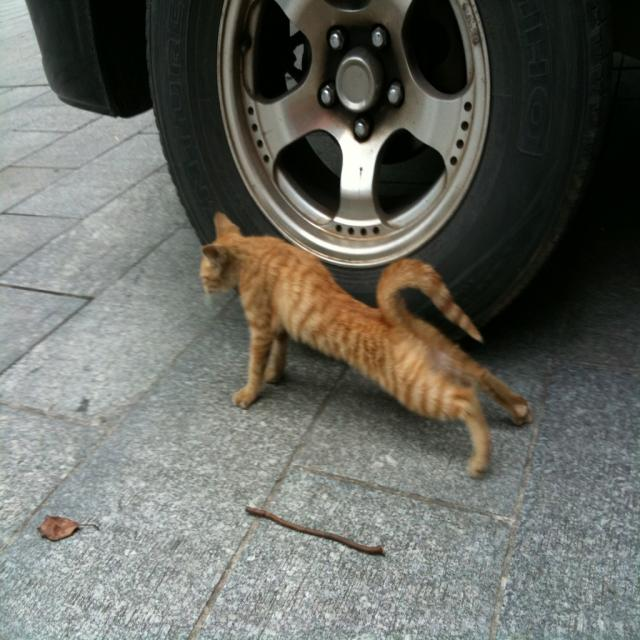Cat: (198, 211, 533, 480)
